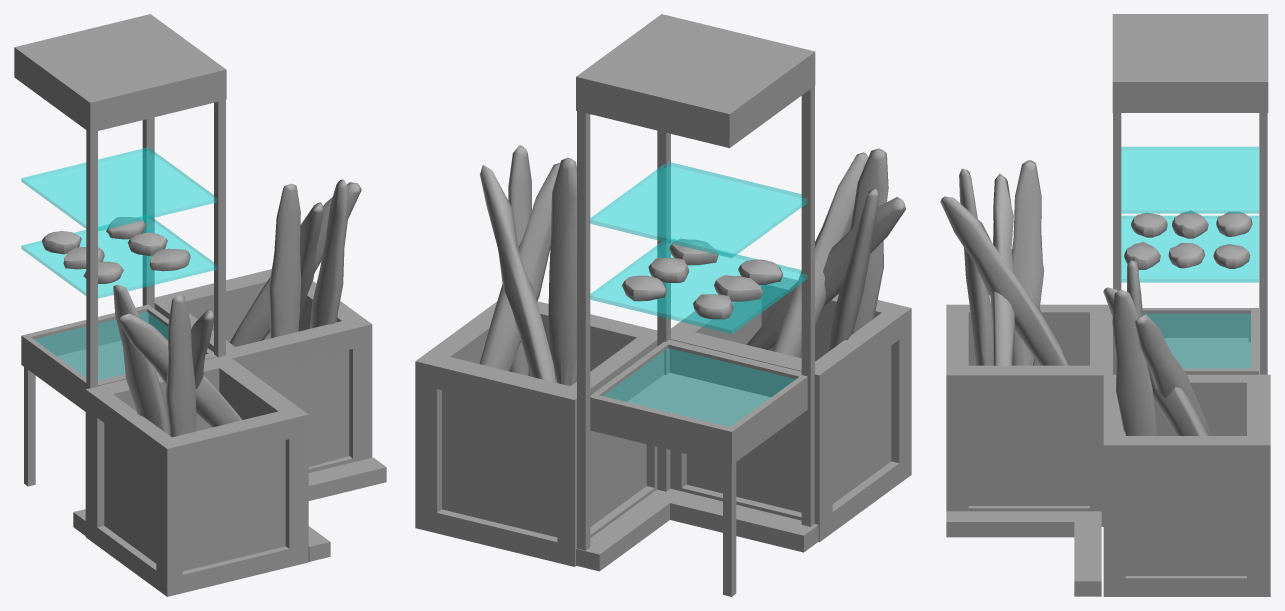
File: baguetteDisplayCase.fbx
3 views of the same model, side by side, from view 1: azimuth 30°, elevation 25°; view 2: azimuth 150°, elevation 25°; view 3: azimuth 270°, elevation 25° (orthographic). The views are drawn at different scales.
Visible parts, largest first — view 1: polySurface6872; view 2: polySurface6872; view 3: polySurface6872.
Boxes of the visible parts, x1,y1,x2,y2 form: polySurface6872: (14,14,386,596); polySurface6872: (415,14,911,596); polySurface6872: (940,14,1270,596).
Bounding box in the file's own units: 1.14 × 1.53 × 1.03.
